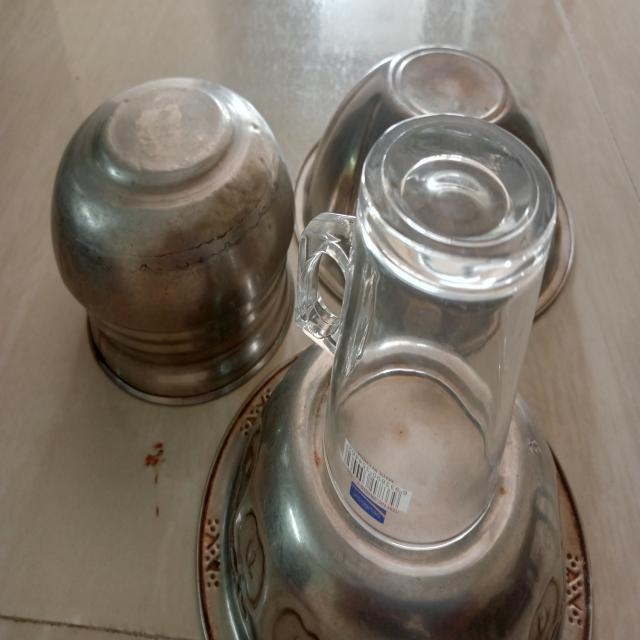glass-VX4N: (293, 108, 559, 552)
